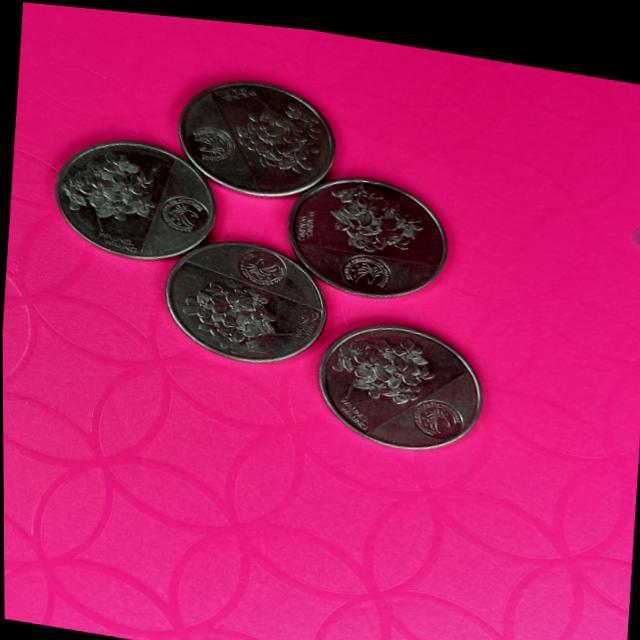1_New_Back: (189, 272, 297, 359), (58, 141, 160, 233), (324, 318, 433, 402), (228, 92, 325, 171), (323, 179, 427, 250)
